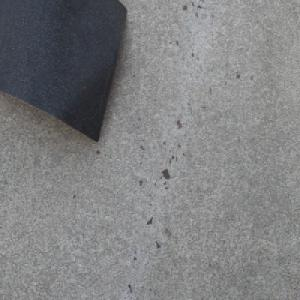PaintChip: (0, 0, 128, 144)
